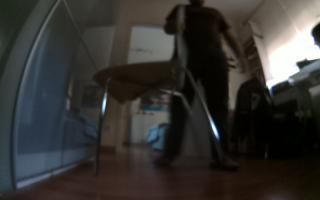person: (149, 1, 249, 177)
